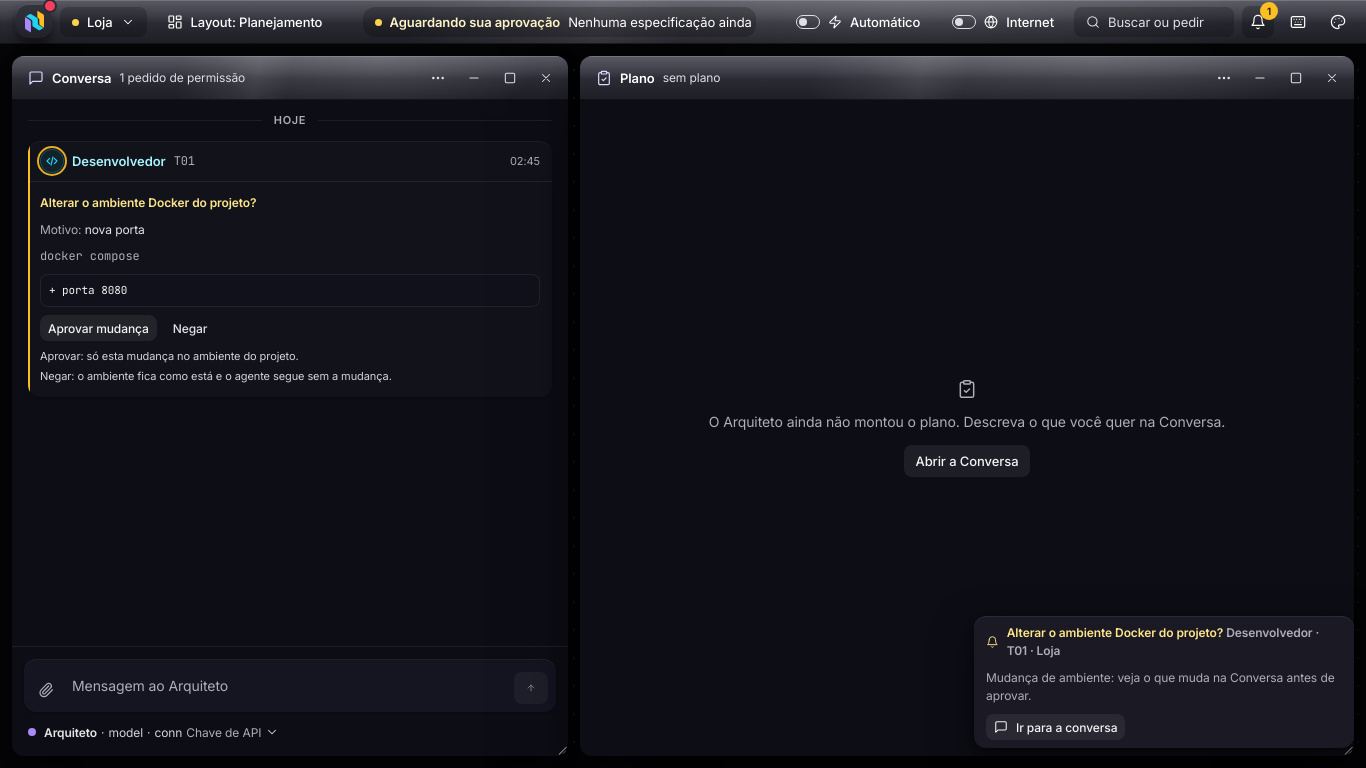
3. mudança de ambiente fora da Conversa › sino e aviso flutuante: 'Ir para a conversa' em vez de 'Aprovar mudança'
The width and height of the screenshot is (1366, 768).
Click the button "1" at (1258, 22), box [1242,6,1274,38]
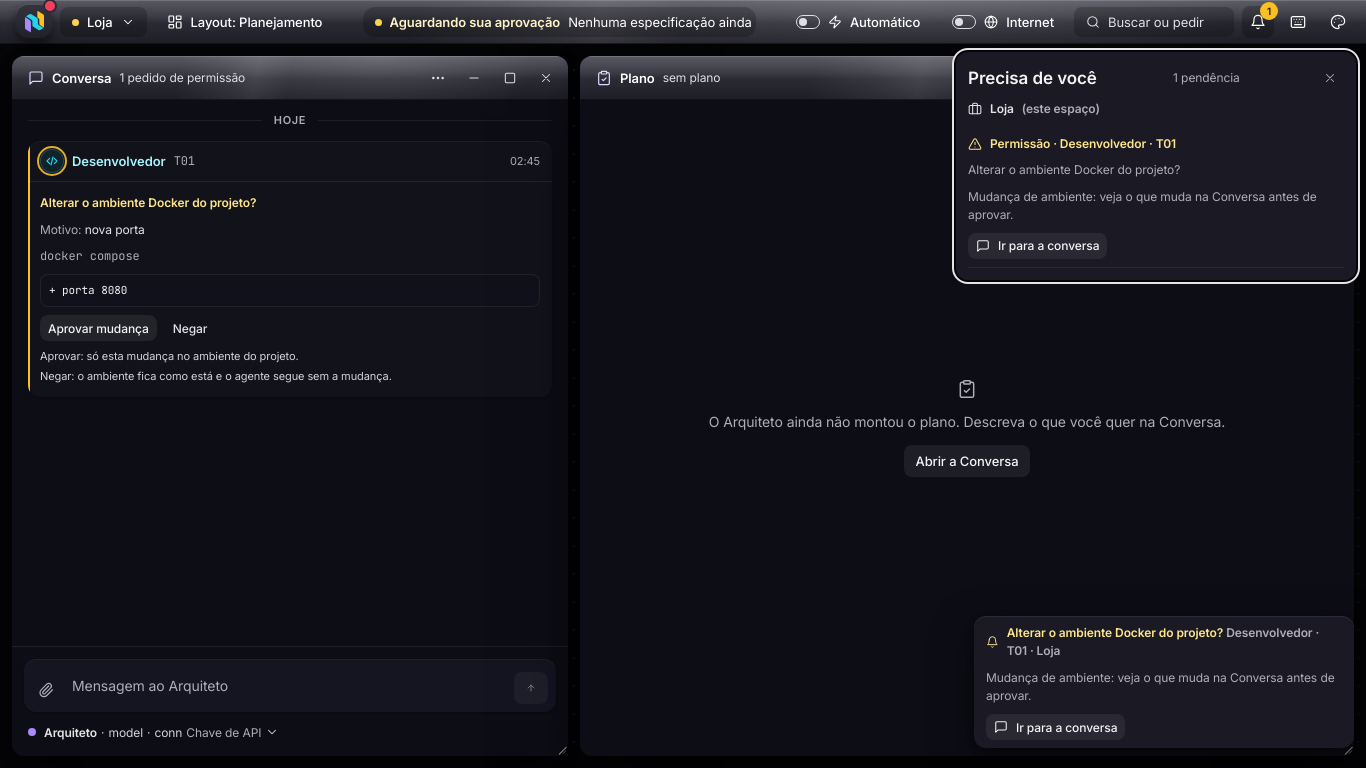
Expected: the button "Ir para a conversa" below "Permissão · Desenvolvedor · T01" is shown, [968,233,1107,259]
